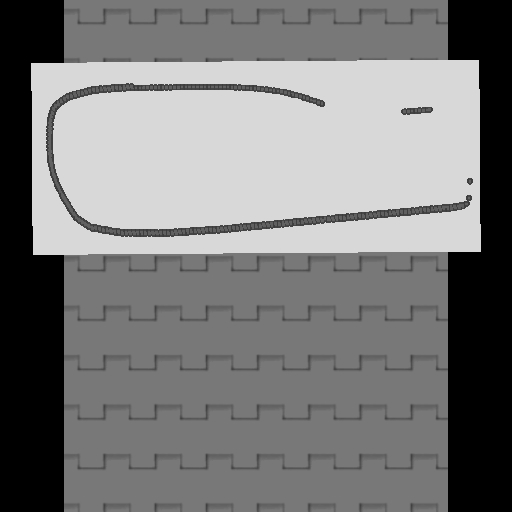Defect: (323, 96, 402, 123)
